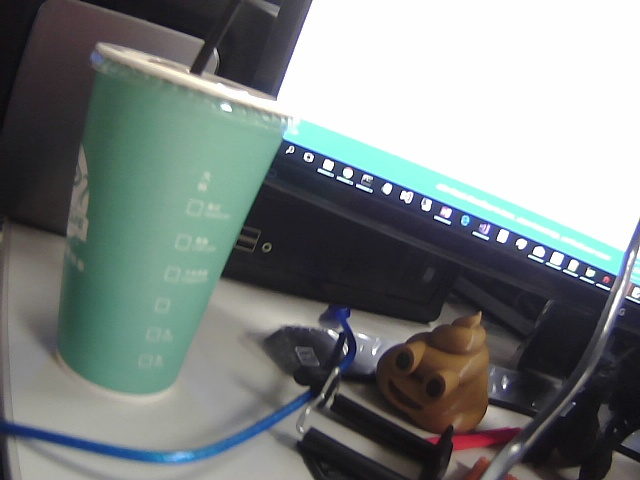beverage: (52, 1, 305, 400)
